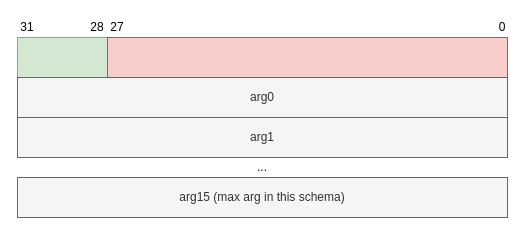
This 525x235 diagram has some shape labels left out. The shapes that lost their labels are listed below. From the top down, each one's centre as x and y in pixels, then its label:
At point (62, 57): "arg count (4bit)".
At point (307, 57): "string offset (28 bits)".
